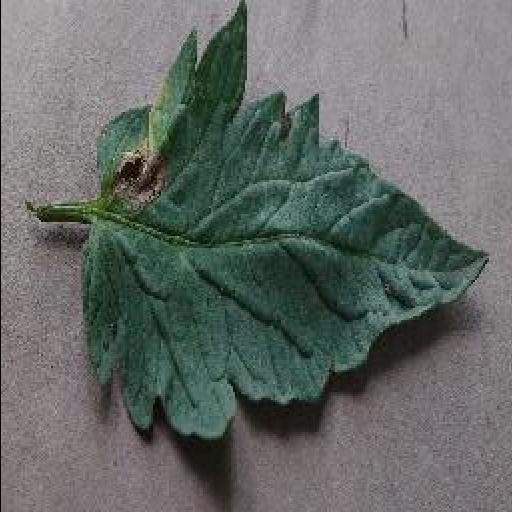disease_tomato: (76, 0, 496, 444)
